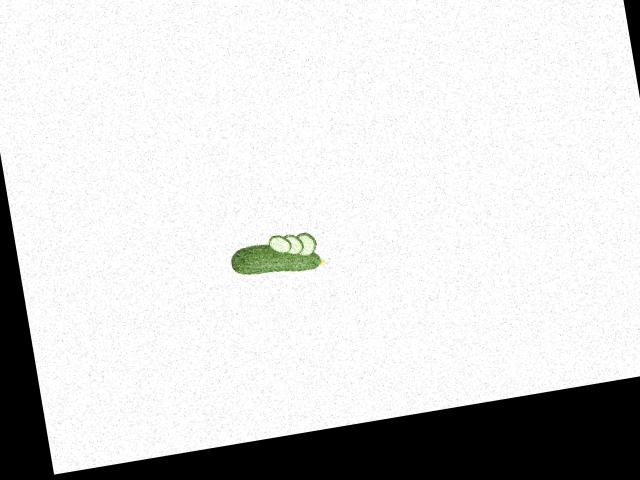cucumber: (227, 233, 326, 282)
